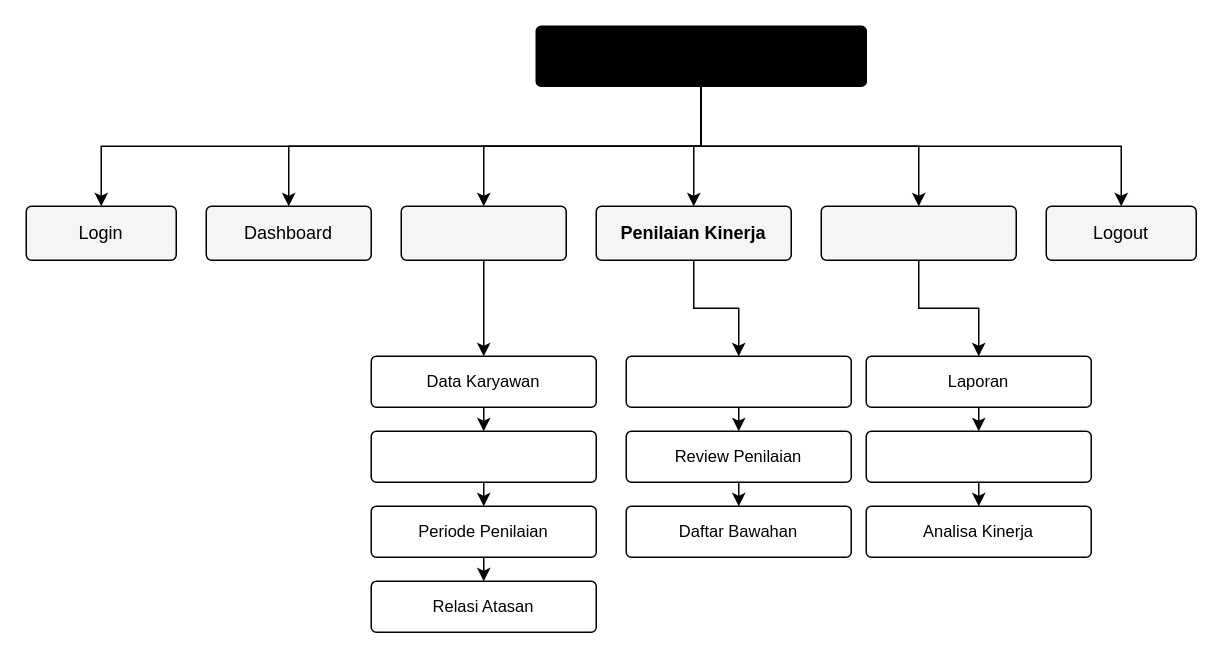
This 1223x659 diagram has some shape labels left out. Each missing label, with the box of its shape:
Data Master: (400, 205, 566, 260)
Kriteria Penilaian: (370, 430, 596, 482)
Laporan & Analisis: (820, 205, 1016, 260)
Penilaian Bawahan: (625, 355, 851, 407)
Rekap Penilaian: (865, 430, 1091, 482)
Sistem Penilaian Kinerja: (535, 25, 866, 86)
